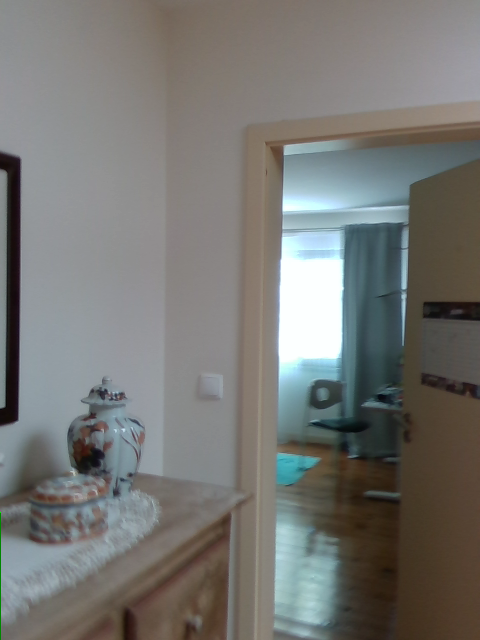semi: (236, 102, 479, 639)
